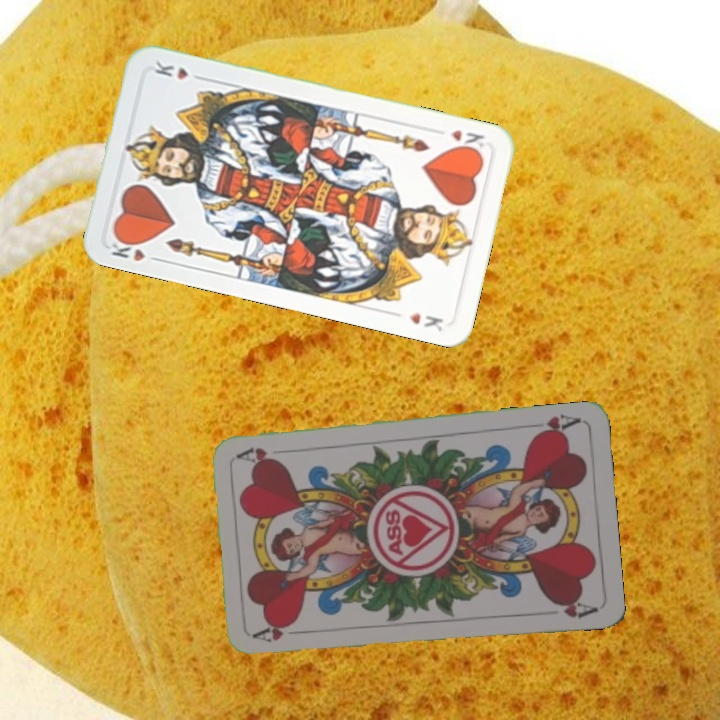HA: (528, 410, 583, 440), (251, 619, 310, 645)
HK: (106, 232, 164, 265), (447, 125, 487, 155)
